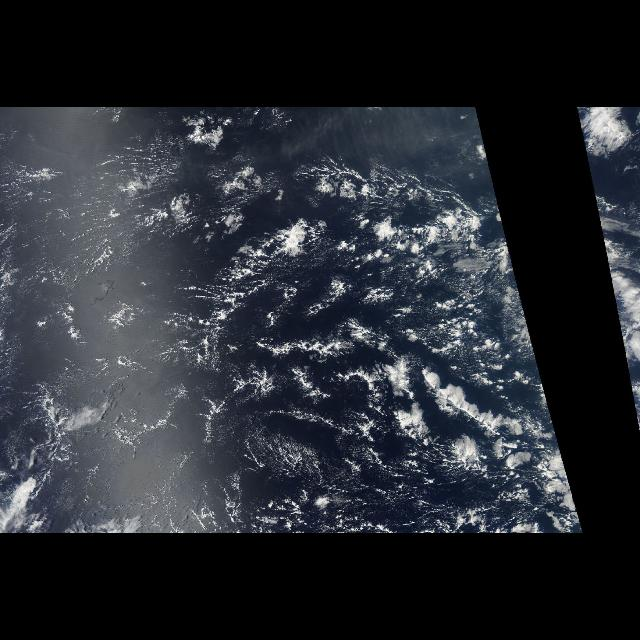Fish: (193, 158, 482, 364)
Sugar: (0, 119, 162, 409)
